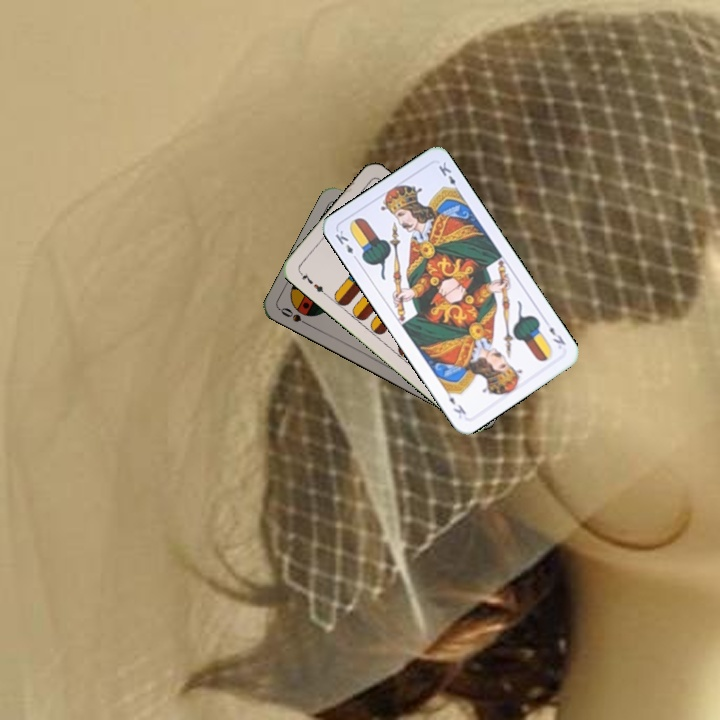E7: (295, 268, 329, 298)
EK: (331, 226, 361, 264), (545, 322, 568, 348)
SO: (276, 303, 314, 329)
